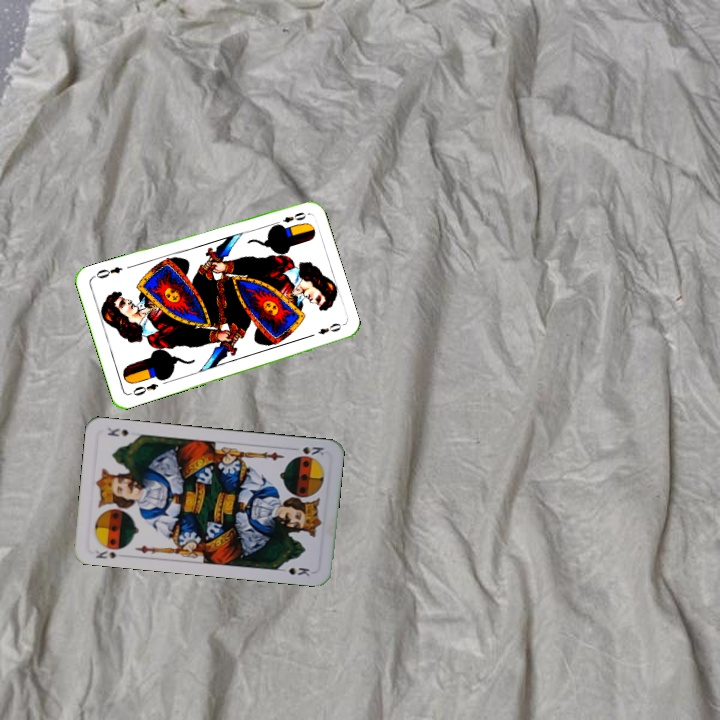EO: (269, 208, 309, 229), (126, 379, 161, 398)
SK: (298, 442, 326, 458), (91, 546, 119, 561)
